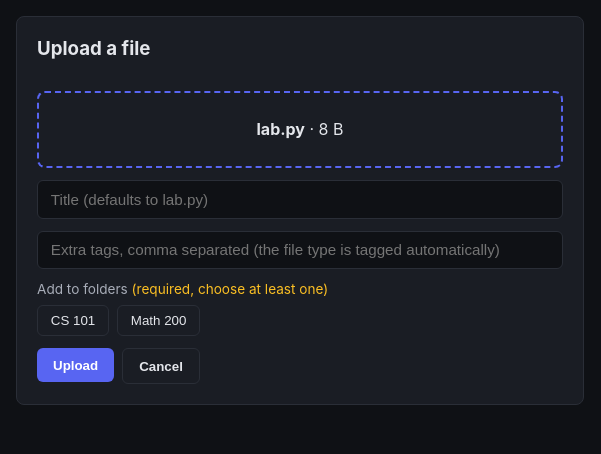
Test: uploading a file › won't upload until at least one folder is chosen
Earlier steps of the test are not shown.
Click the button "Upload" at [76, 365], box [37, 348, 114, 382]
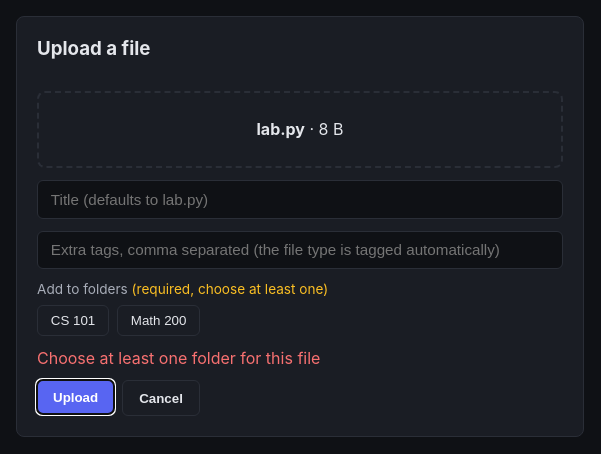
Check: the text "Choose at least one folder for this file" is shown, box [37, 348, 320, 368]
